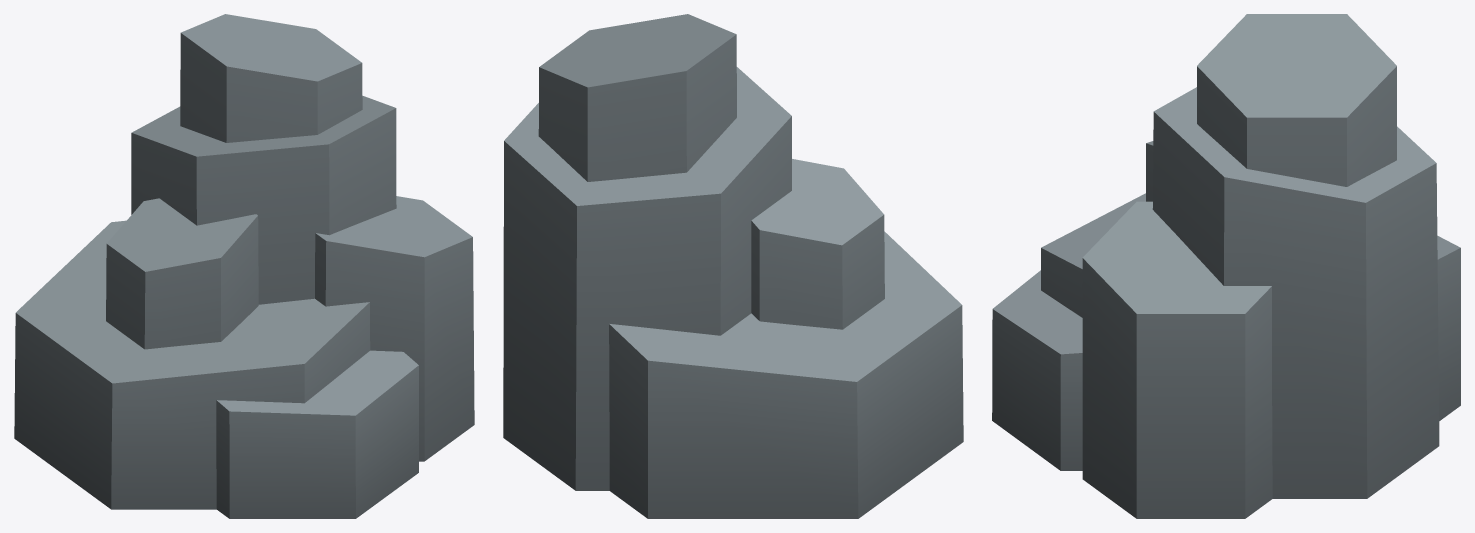
Rendered from mountain_B.glb.
3 views of the same model, side by side, from view 1: azimuth 30°, elevation 25°; view 2: azimuth 150°, elevation 25°; view 3: azimuth 270°, elevation 25° (orthographic). The views are drawn at different scales.
Visible parts, largest first — view 1: mountain_B; view 2: mountain_B; view 3: mountain_B.
Boxes of the visible parts, box(x1,y1,x2,y2) form: mountain_B: box(14, 14, 474, 518); mountain_B: box(503, 14, 963, 518); mountain_B: box(992, 14, 1460, 518).
Size of the model in its own units: 1.8 by 1.77 by 1.88.
1 material, 1 textured.
